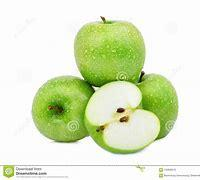apple: (77, 79, 160, 156), (79, 14, 146, 88), (34, 76, 92, 147), (130, 69, 181, 138)
